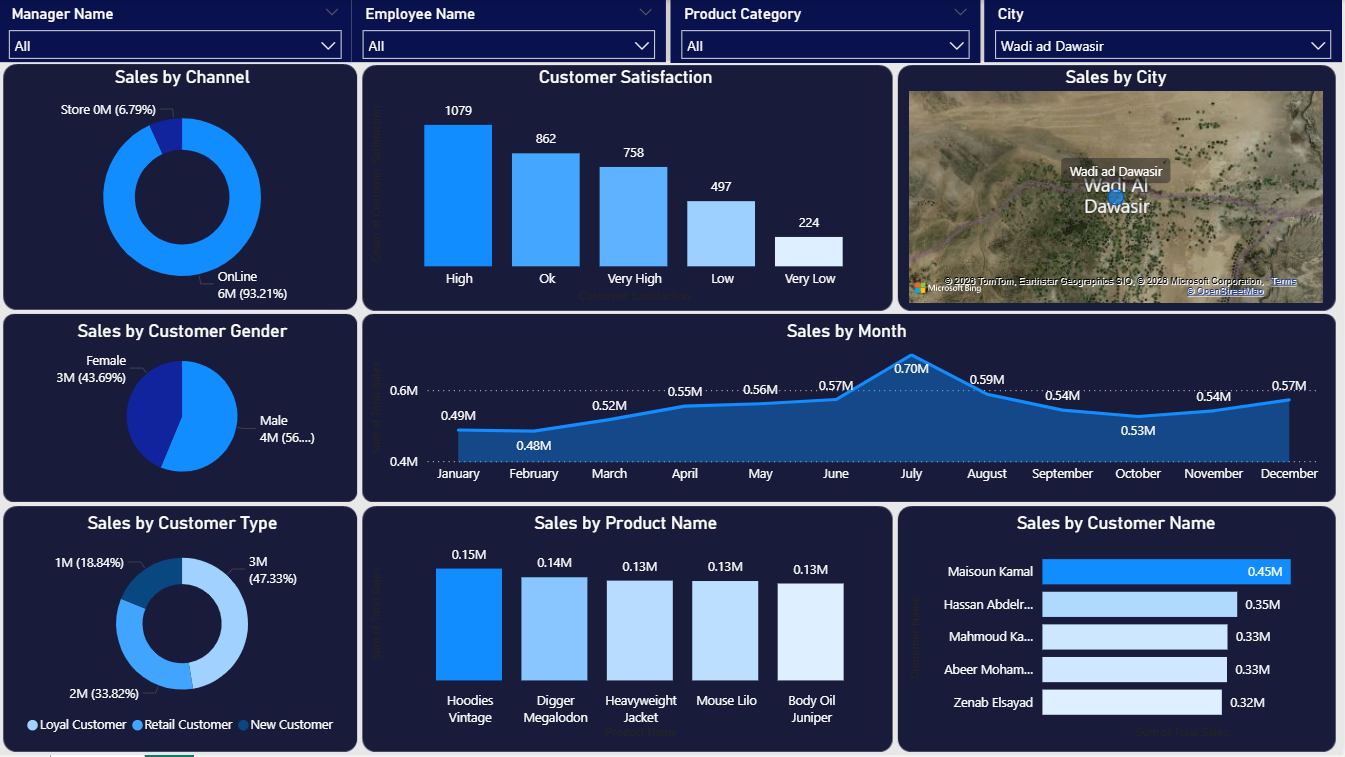

Layout of this report page (visuals, bound fields, positions):
{"tool":"powerbi","page":{"name":"Page 1","canvas":[1280,720],"ordinal":0},"visuals":[{"type":"map","title":"Sales by City","fields":{"Category":["Sales Data.City"],"Size":["Sum(Sales Data.Total Sales)"]},"box":[863.1,63.1,403.4,230.5],"z":0},{"type":"donutChart","title":"Sales by Channel","fields":{"Category":["Sales Data.Channel"],"Y":["Sum(Sales Data.Total Sales)"]},"box":[13.7,63.1,322.5,230.5],"z":1000},{"type":"clusteredColumnChart","title":" Customer Satisfaction","fields":{"Category":["Sales Data.Customer Satisfaction"],"Y":["CountNonNull(Sales Data.Customer Satisfaction)"]},"box":[349.9,63.1,495.4,230.5],"z":2000},{"type":"pieChart","title":"Sales by Customer Gender","fields":{"Category":["Sales Data.Customer Gender"],"Y":["Sum(Sales Data.Total Sales)"]},"box":[13.7,304.6,322.5,164.7],"z":3000},{"type":"lineChart","title":"Sales by Month","fields":{"Category":["Sales Data.Invoice Date.Variation.Date Hierarchy.Year","Sales Data.Invoice Date.Variation.Date Hierarchy.Quarter","Sales Data.Invoice Date.Variation.Date Hierarchy.Month","Sales Data.Invoice Date.Variation.Date Hierarchy.Day"],"Y":["Sum(Sales Data.Total Sales)"]},"box":[349.9,304.6,916.6,164.7],"z":4000},{"type":"donutChart","title":"Sales by Customer Type","fields":{"Category":["Sales Data.Customer Type"],"Y":["Sum(Sales Data.Total Sales)"]},"box":[13.7,488.5,322.5,220.9],"z":5000},{"type":"columnChart","title":" Sales by Product Name","fields":{"Y":["Sum(Sales Data.Total Sales)"],"Category":["Sales Data.Product Name"]},"box":[349.9,488.5,495.4,220.9],"z":6000},{"type":"clusteredBarChart","title":"Sales by Customer Name","fields":{"Category":["Sales Data.Customer Name"],"Y":["Sum(Sales Data.Total Sales)"]},"box":[863.1,488.5,403.4,220.9],"z":7000},{"type":"slicer","fields":{"Values":["Sales Data.Manager Name"]},"box":[0,0,336.9,59.5],"z":8000},{"type":"slicer","fields":{"Values":["Sales Data.Employee Name"]},"box":[336.9,0,298.8,59.5],"z":9000},{"type":"slicer","fields":{"Values":["Sales Data.Product Category"]},"box":[640.2,0,295,60],"z":10000},{"type":"slicer","fields":{"Values":["Sales Data.City"]},"box":[939.3,0,340.5,59.5],"z":11000}]}

Visuals, with their boxes in screenshot pixels (x1, y1, x2, y2), scaled from the page's 1280x720 canvas onto the 1345x757 screenshot:
"Sales by City" map: box(907, 66, 1331, 309)
"Sales by Channel" donutChart: box(14, 66, 353, 309)
" Customer Satisfaction" clusteredColumnChart: box(368, 66, 888, 309)
"Sales by Customer Gender" pieChart: box(14, 320, 353, 493)
"Sales by Month" lineChart: box(368, 320, 1331, 493)
"Sales by Customer Type" donutChart: box(14, 514, 353, 746)
" Sales by Product Name" columnChart: box(368, 514, 888, 746)
"Sales by Customer Name" clusteredBarChart: box(907, 514, 1331, 746)
slicer - Sales Data.Manager Name: box(0, 0, 354, 63)
slicer - Sales Data.Employee Name: box(354, 0, 668, 63)
slicer - Sales Data.Product Category: box(673, 0, 983, 63)
slicer - Sales Data.City: box(987, 0, 1344, 63)
